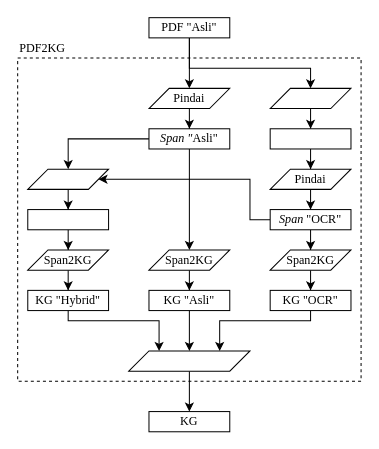
The diagram is 379 pixels wide and 449 high, and some of its shapes have lost their labels. The shapes that lost their labels are listed below. From the top down, each one's centre as x and y in pixels, then its label:
(310,98): OCR
(310,138): PDF "OCR"
(68,178): Gabung
(68,219): Span "Hybrid"
(189,360): Pilih terbaik
